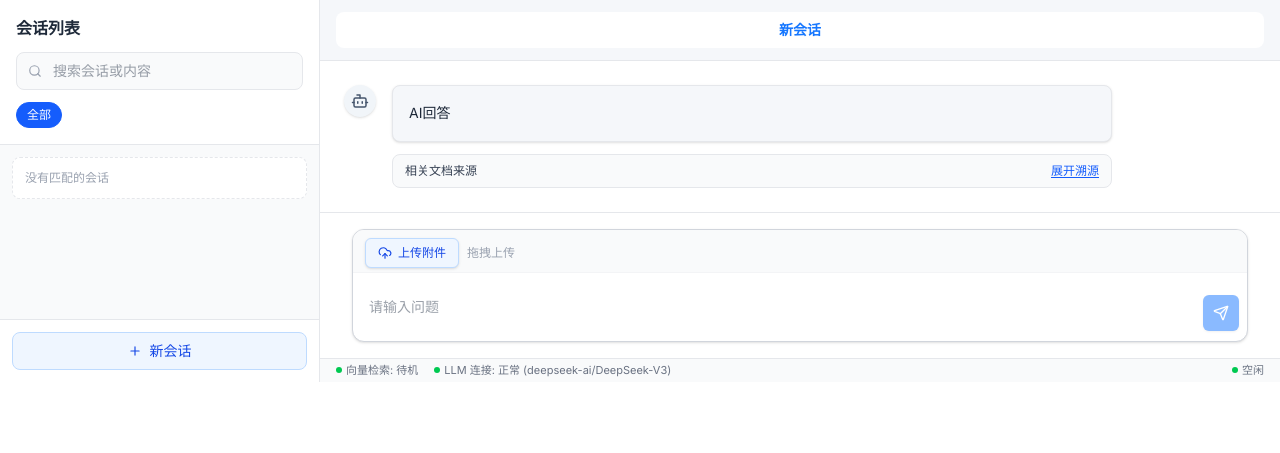
Scenario: QAPagePanel › shows source preview card on hover
The image size is (1280, 453).
Click the button "展开溯源".
click(1075, 171)  # box [1051,163,1099,179]
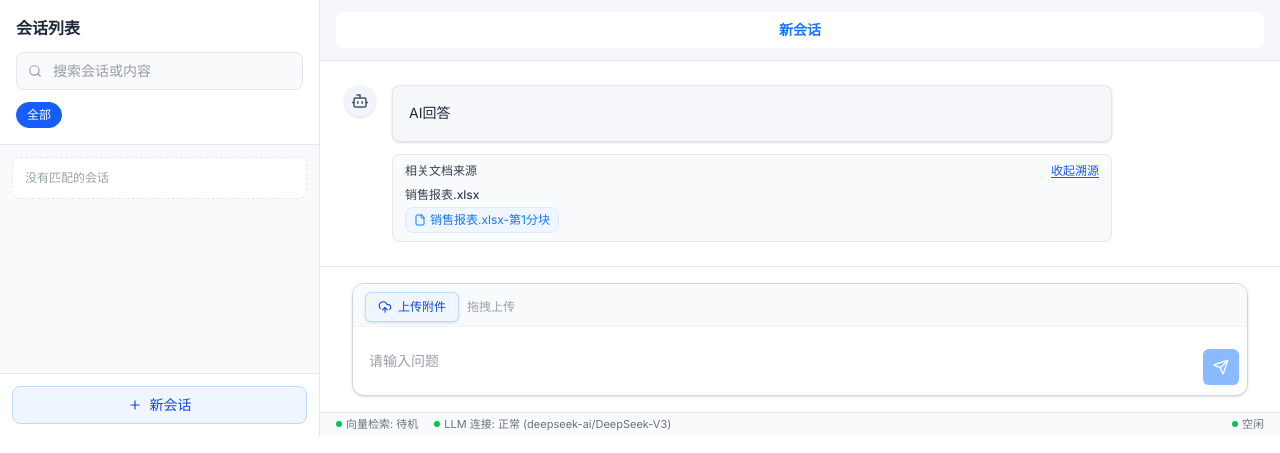
Hover over the button "销售报表.xlsx-第1分块".
mouse_move(482, 220)  # box [405,207,559,233]
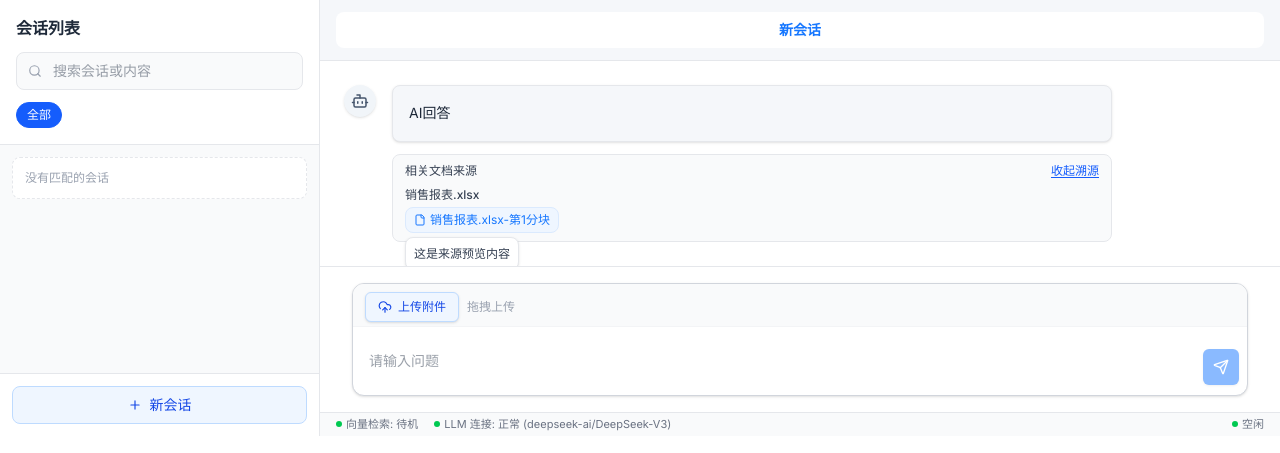
expect the text "这是来源预览内容" is shown: met, box [405,237,519,266]
